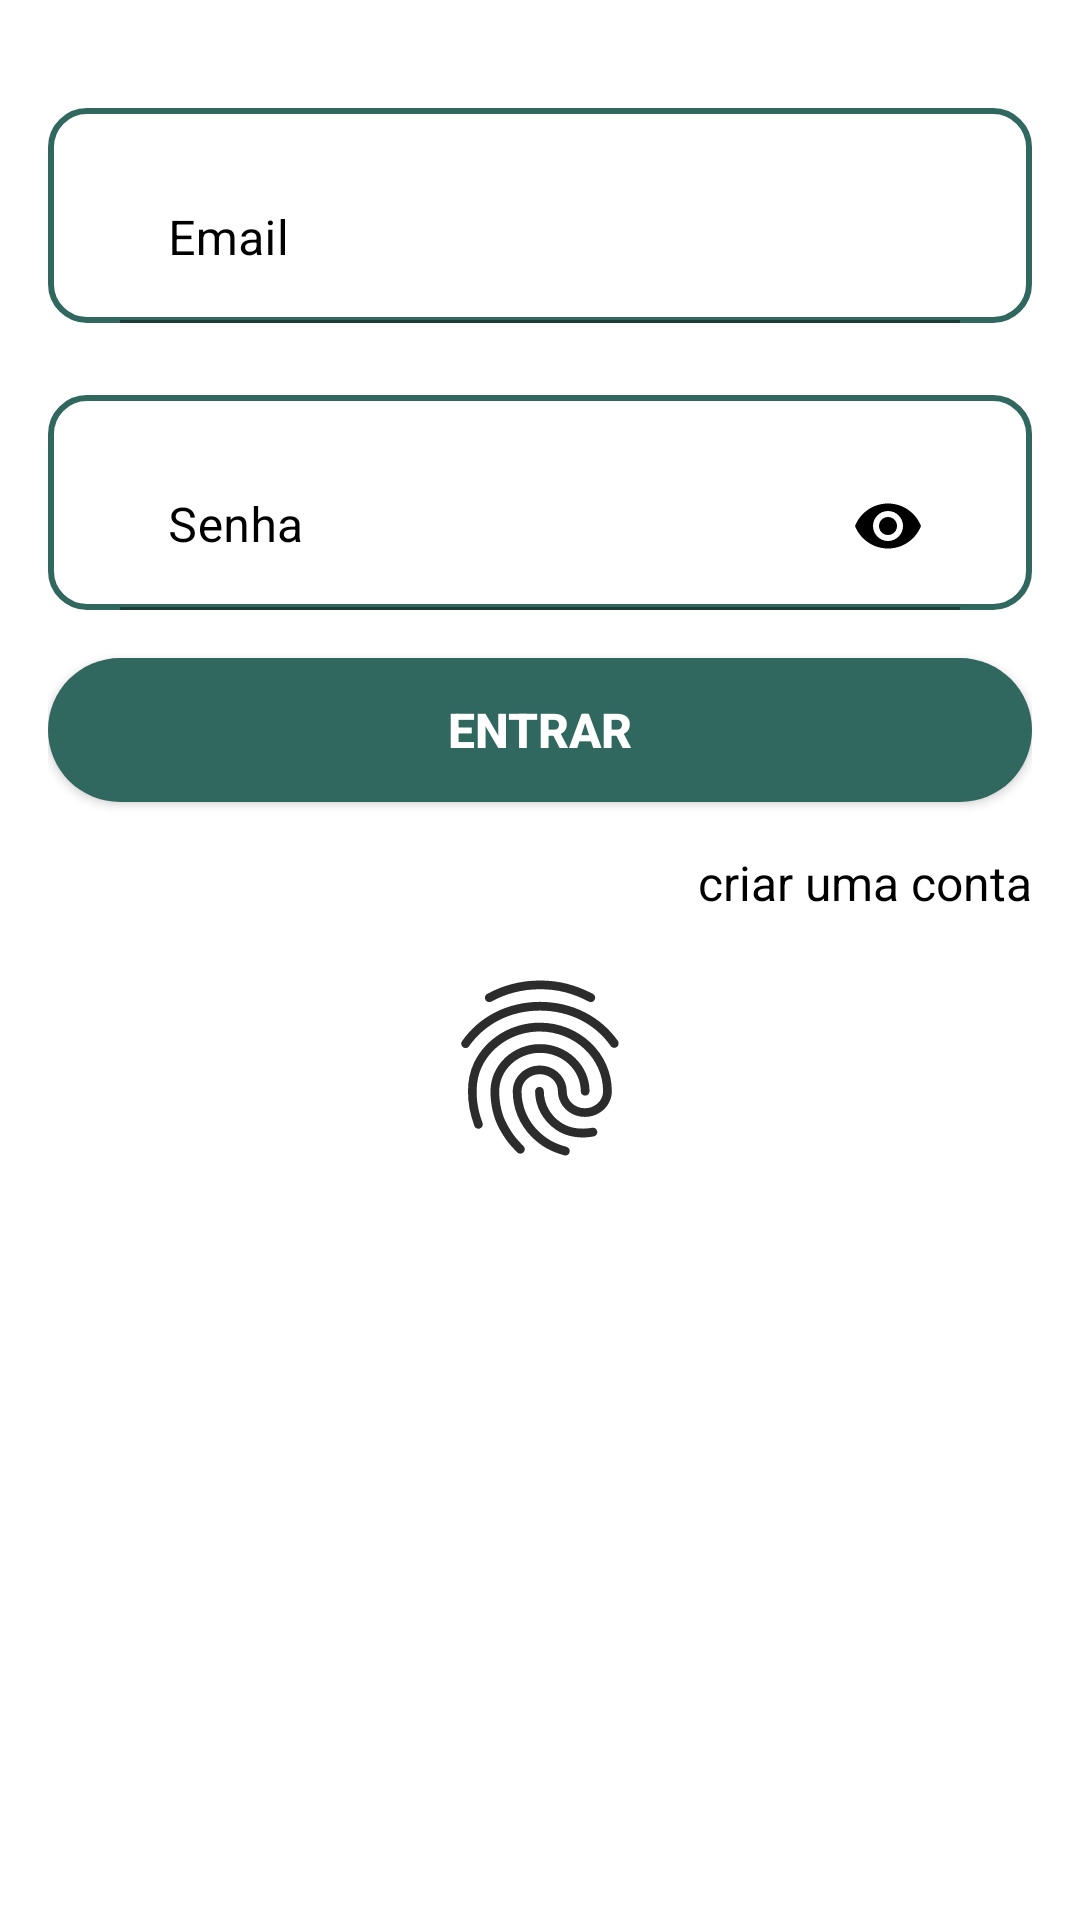

Locate icon controls on the screen. Image size 1080px×1920px, boxes as (x1, y1, x2, y2).
fingerprint: (461, 980, 619, 1156)
